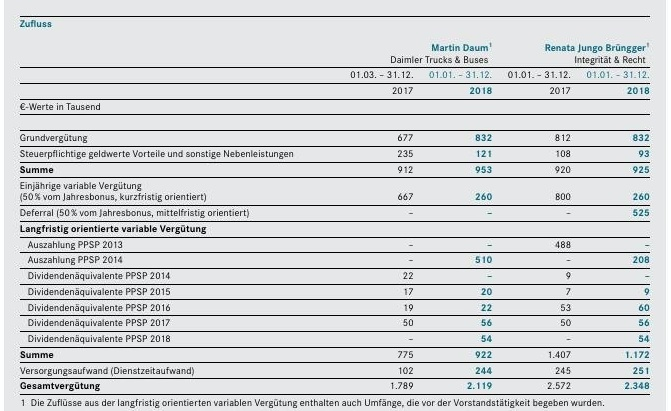table: (0, 0, 671, 411)
